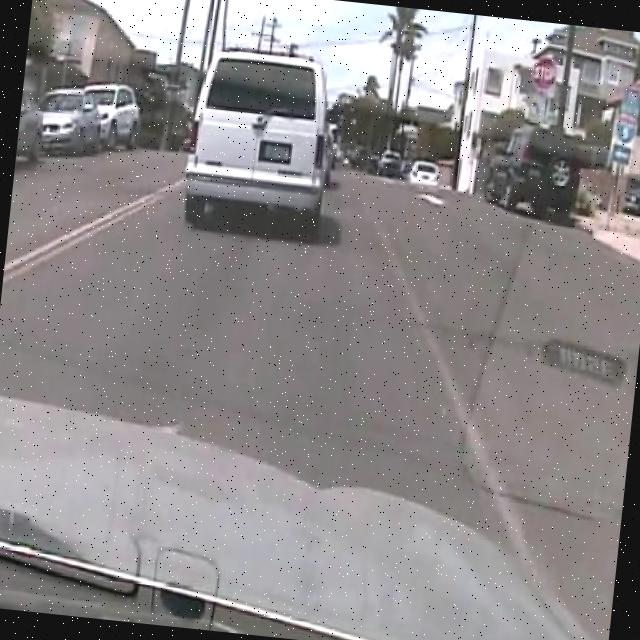Stop: (529, 54, 560, 95)
